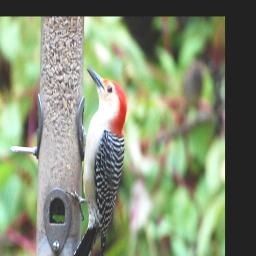Woodpecker: (65, 66, 128, 256)
